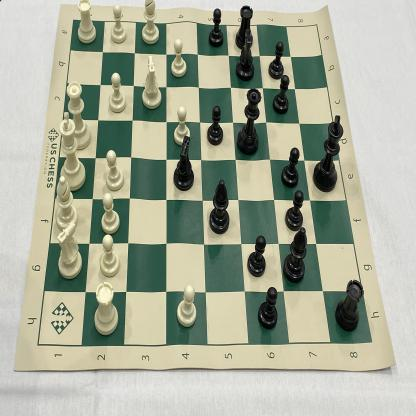black-bishop: (282, 222, 307, 284), (209, 178, 230, 235)
black-king: (312, 111, 345, 193)
black-knight: (169, 137, 196, 192), (233, 27, 256, 81)
black-pawn: (257, 286, 279, 334), (246, 234, 267, 277), (280, 145, 300, 190), (284, 189, 305, 231), (271, 75, 291, 115), (205, 104, 224, 145), (207, 7, 225, 50), (268, 41, 285, 80)
black-queen: (237, 86, 261, 154)
black-rook: (335, 275, 362, 331), (232, 4, 256, 51)
white-bishop: (52, 174, 78, 230), (141, 0, 160, 47)
white-king: (56, 110, 87, 191)
white-knight: (55, 221, 83, 281), (140, 54, 163, 111)
white-pawn: (175, 282, 198, 330), (99, 233, 121, 279), (102, 149, 125, 189), (168, 36, 189, 79), (100, 190, 120, 234), (107, 72, 127, 113), (109, 2, 128, 45), (172, 104, 190, 147)
white-queen: (64, 79, 92, 152)
white-rook: (92, 278, 118, 335), (73, 0, 98, 44)
